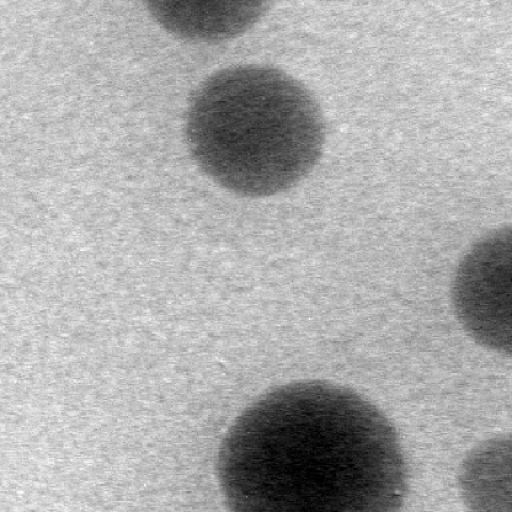Nanoparticles: (218, 378, 406, 510), (186, 62, 326, 194), (453, 220, 511, 357), (143, 0, 275, 41), (459, 434, 512, 509)
